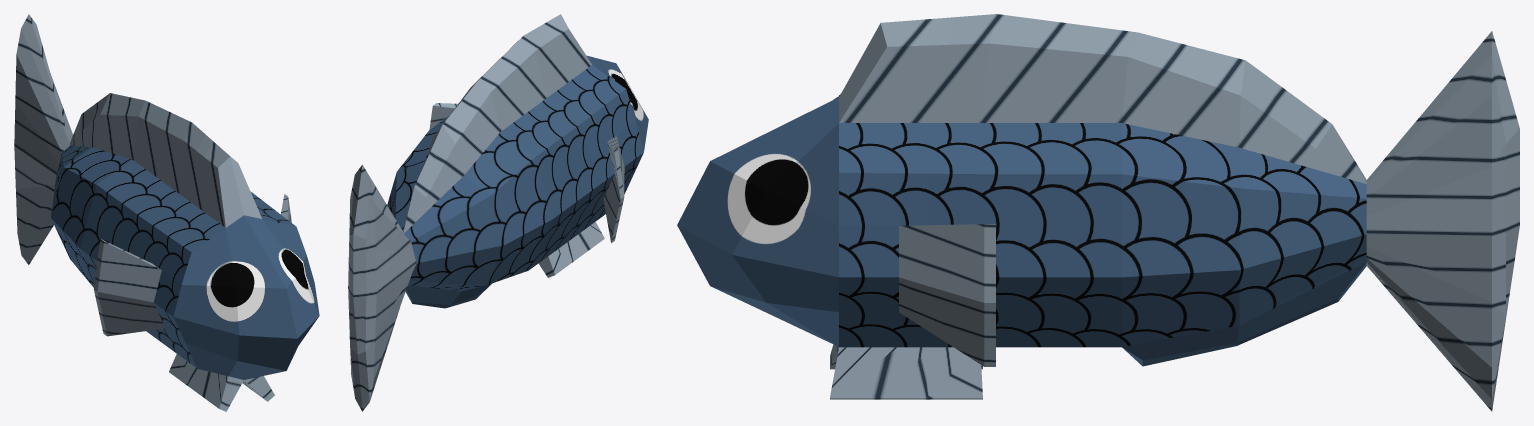
File: Fish.fbx
The picture shows the model from 3 angles, left to right: view 1: azimuth 30°, elevation 25°; view 2: azimuth 150°, elevation 25°; view 3: azimuth 270°, elevation 25°; orthographic projection. The views are drawn at different scales.
Visible parts, largest first — view 1: Cube; view 2: Cube; view 3: Cube.
Boxes of the visible parts, <box> form: Cube: <box>14,14,319,411</box>; Cube: <box>348,14,648,411</box>; Cube: <box>677,14,1519,411</box>.
Bounding box in the file's own units: 245 × 311 × 597.
